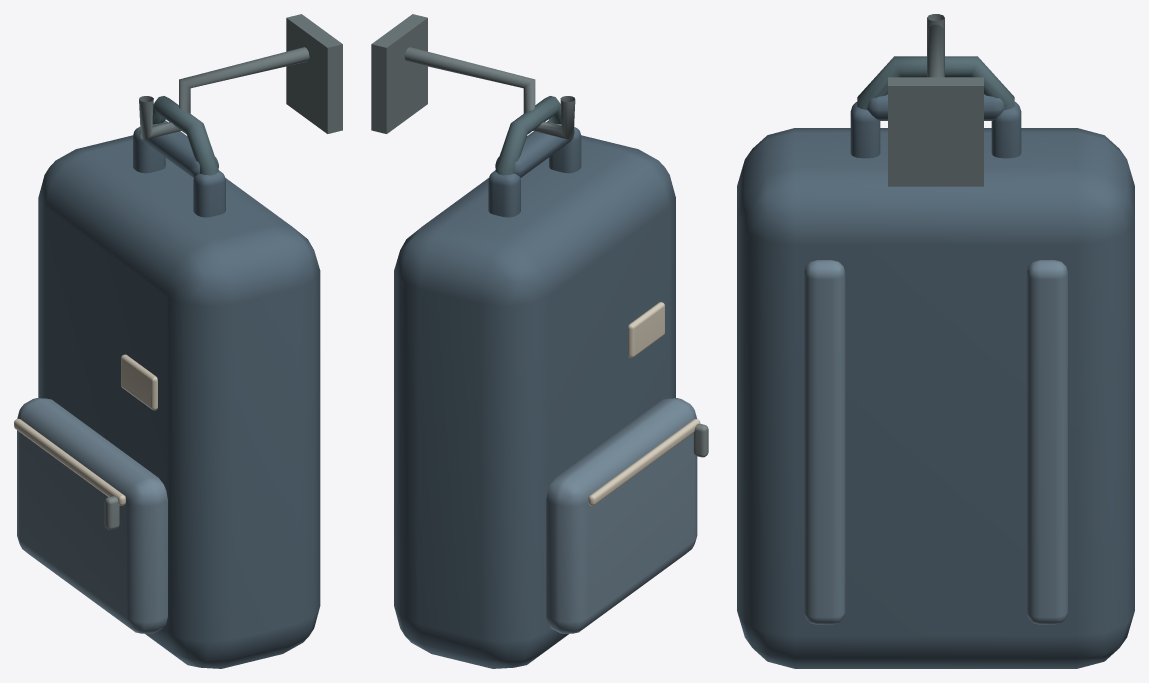
Rendered from bag_left_hook.glb.
3 views of the same model, side by side, from view 1: azimuth 30°, elevation 25°; view 2: azimuth 150°, elevation 25°; view 3: azimuth 270°, elevation 25° (orthographic). The views are drawn at different scales.
Visible parts, largest first — view 1: _root_Classroom3D_ClassroomArt_SceneDetails_DeskSideBag1_pro (×4), Hook mounting plate P1, J hook P1, Bag carrying loop P1; view 2: _root_Classroom3D_ClassroomArt_SceneDetails_DeskSideBag1_pro (×3), Hook mounting plate P1, J hook P1, Bag carrying loop P1; view 3: _root_Classroom3D_ClassroomArt_SceneDetails_DeskSideBag1_pro (×2), Hook mounting plate P1, Bag carrying loop P1, J hook P1.
Boxes of the visible parts, bbox=[...] form: _root_Classroom3D_ClassroomArt_SceneDetails_DeskSideBag1_pro (×4): bbox=[14, 120, 320, 668]; Hook mounting plate P1: bbox=[286, 14, 342, 133]; J hook P1: bbox=[139, 47, 309, 139]; Bag carrying loop P1: bbox=[152, 96, 218, 175]; _root_Classroom3D_ClassroomArt_SceneDetails_DeskSideBag1_pro (×3): bbox=[394, 120, 700, 668]; Hook mounting plate P1: bbox=[371, 14, 427, 133]; J hook P1: bbox=[404, 47, 575, 139]; Bag carrying loop P1: bbox=[495, 96, 561, 175]; _root_Classroom3D_ClassroomArt_SceneDetails_DeskSideBag1_pro (×2): bbox=[737, 94, 1134, 668]; Hook mounting plate P1: bbox=[888, 77, 983, 186]; Bag carrying loop P1: bbox=[857, 56, 1014, 109]; J hook P1: bbox=[927, 14, 944, 77].
Bounding box in the file's own units: 0.2418 × 0.4783 × 0.2688.
